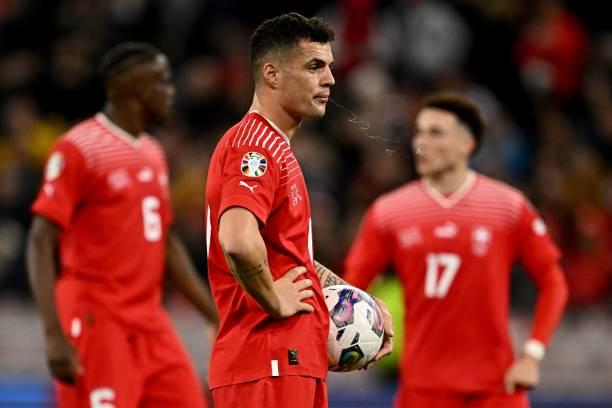Spitting: (234, 6, 369, 156)
